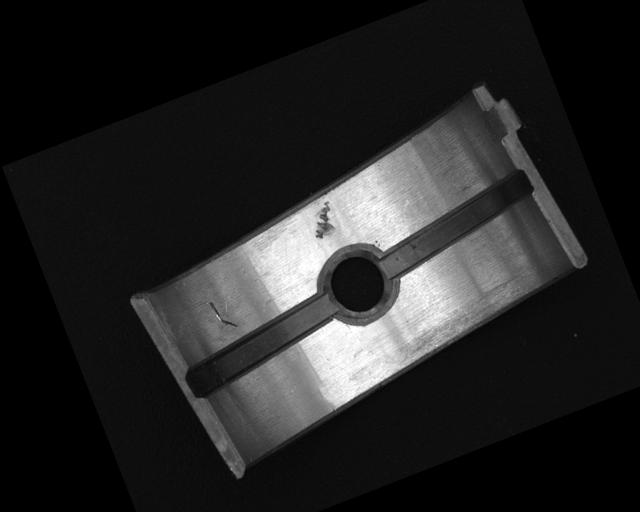bruise: (305, 200, 342, 241)
gap: (368, 168, 545, 280), (176, 291, 348, 400)
hole: (312, 238, 405, 331)
nick: (207, 295, 237, 334)
scratch: (384, 275, 532, 368)
